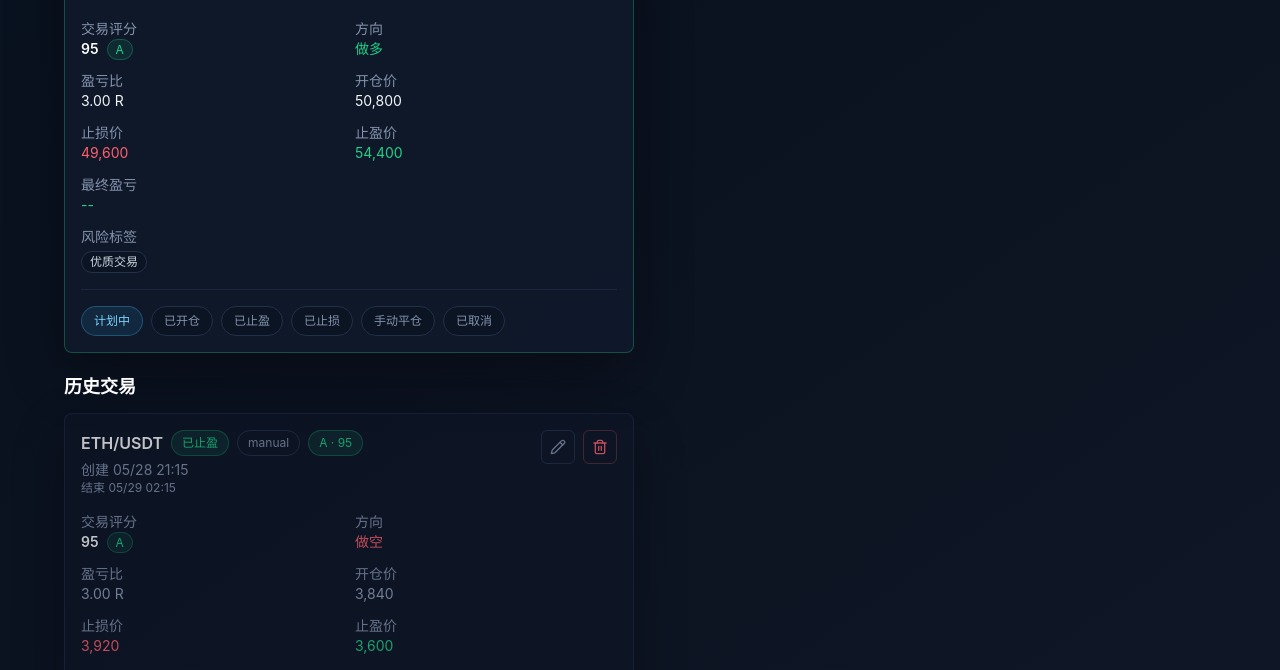
Test: TradePlans › archives stopped plans and records final loss
(page scrolled)
Step 1. Click the button "已止损" → click(322, 321), box left=291, top=306, right=353, bottom=336
(page scrolled)
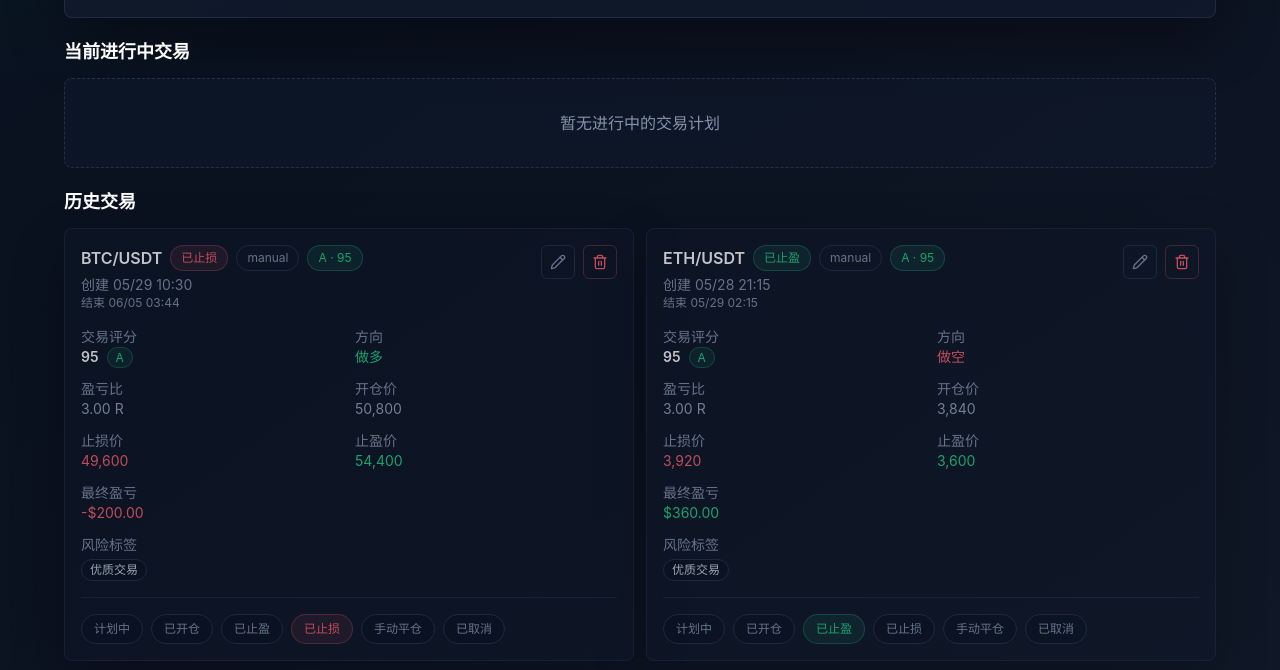
Check: the text "已止损" is shown, box left=170, top=245, right=228, bottom=271
